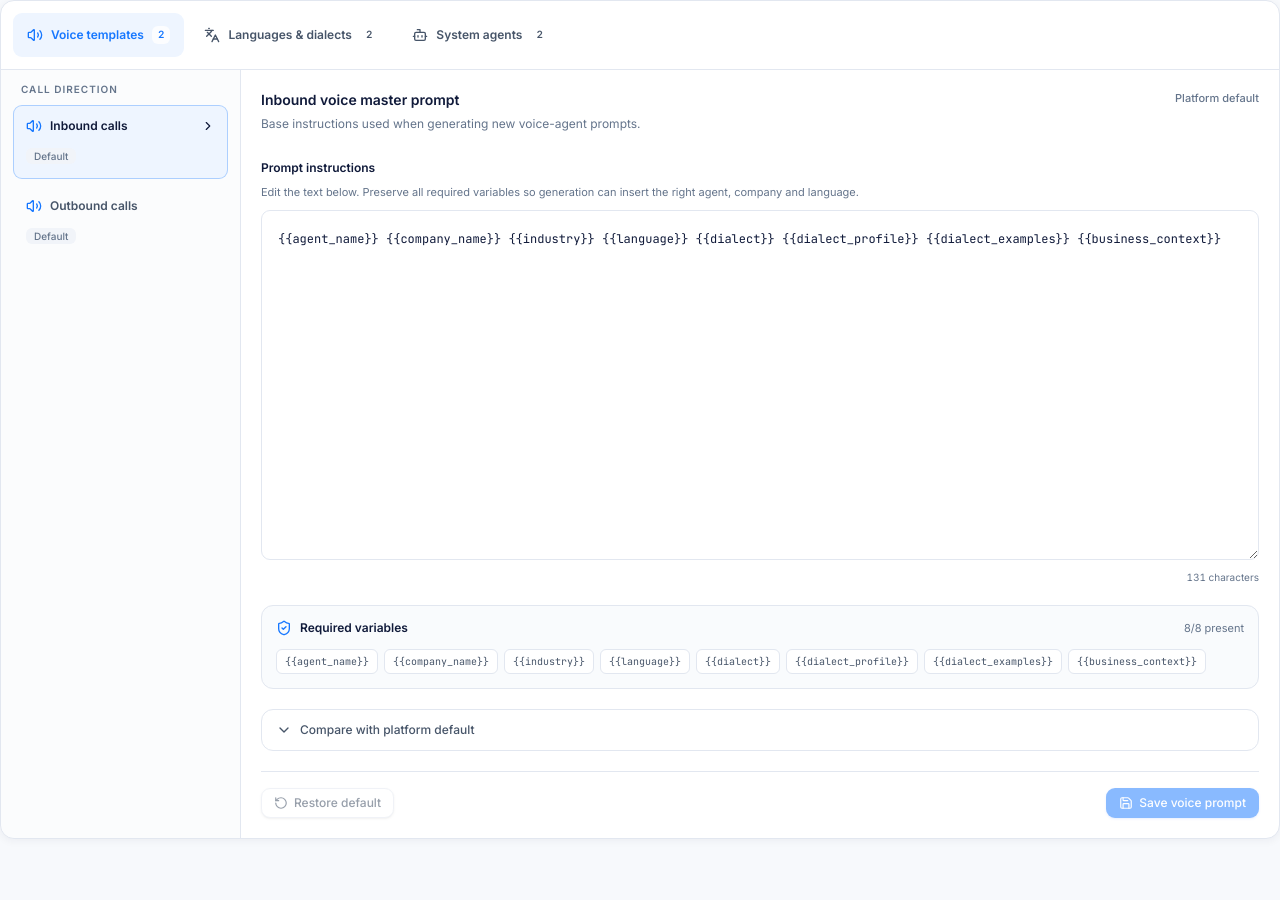
Test case: Platform Admin prompt library › uses a searchable system-agent list without affecting saved instructions
Expected: the navigation bar named "Prompt categories" is shown, [1, 1, 1279, 70]
Click the button "System agents 2". click: coordinates (481, 35)
box: [398, 13, 563, 57]
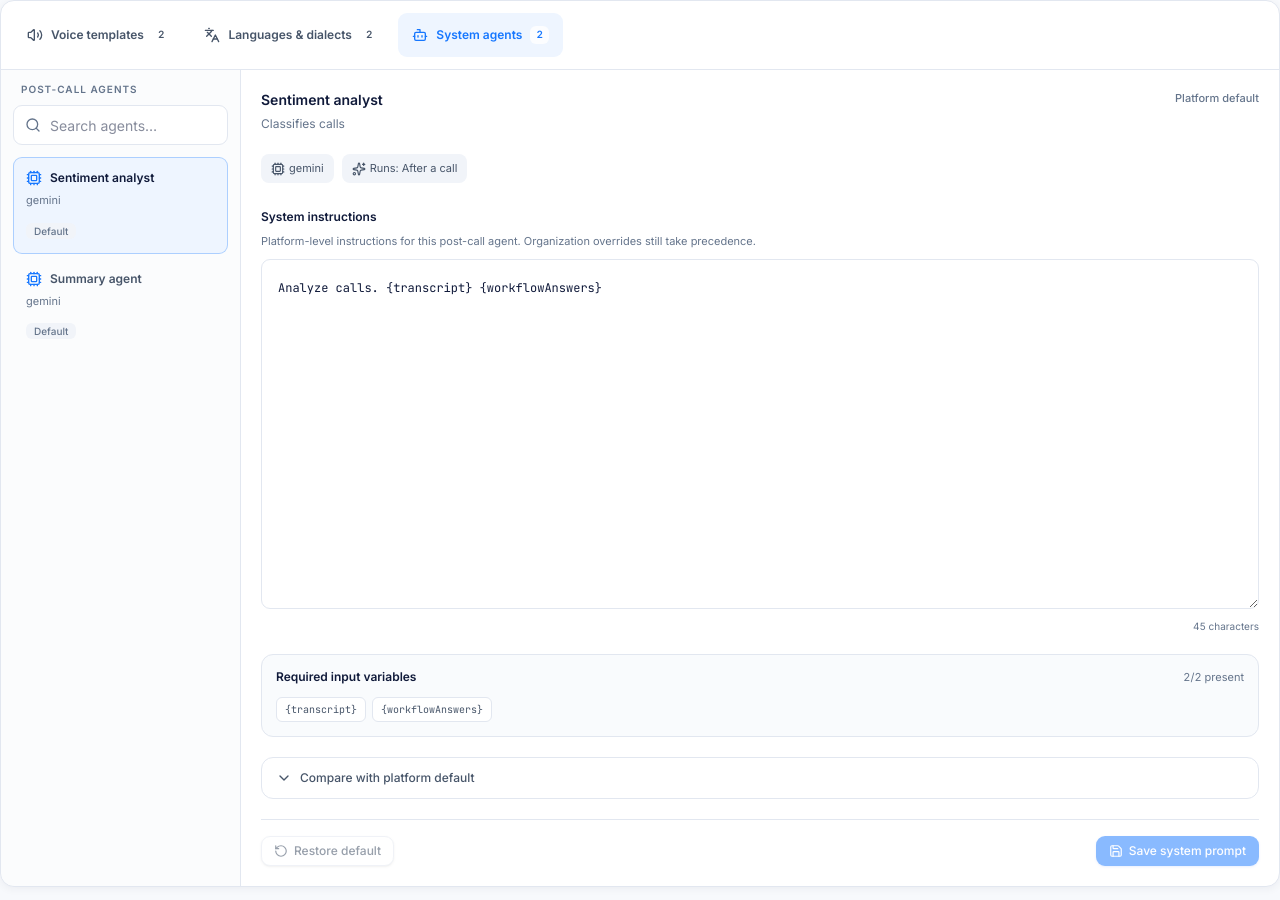
Type "summary" into the search field named "Search system agents". click: coordinates (120, 125)
box: [13, 105, 228, 145]
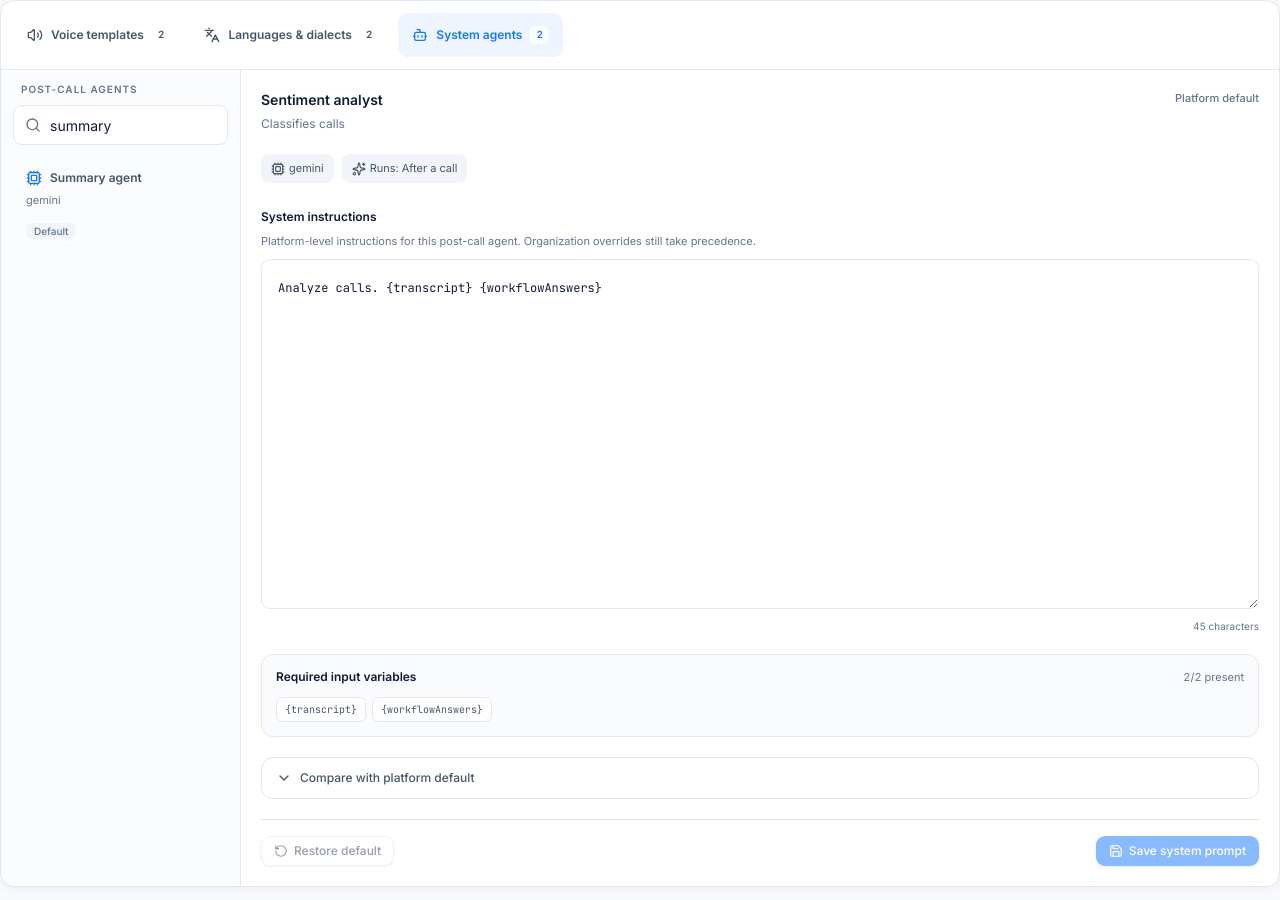
Result: the button "Summary agent gemini Default" is shown
Click the button "Summary agent gemini Default". click: coordinates (120, 205)
box: [13, 157, 228, 254]
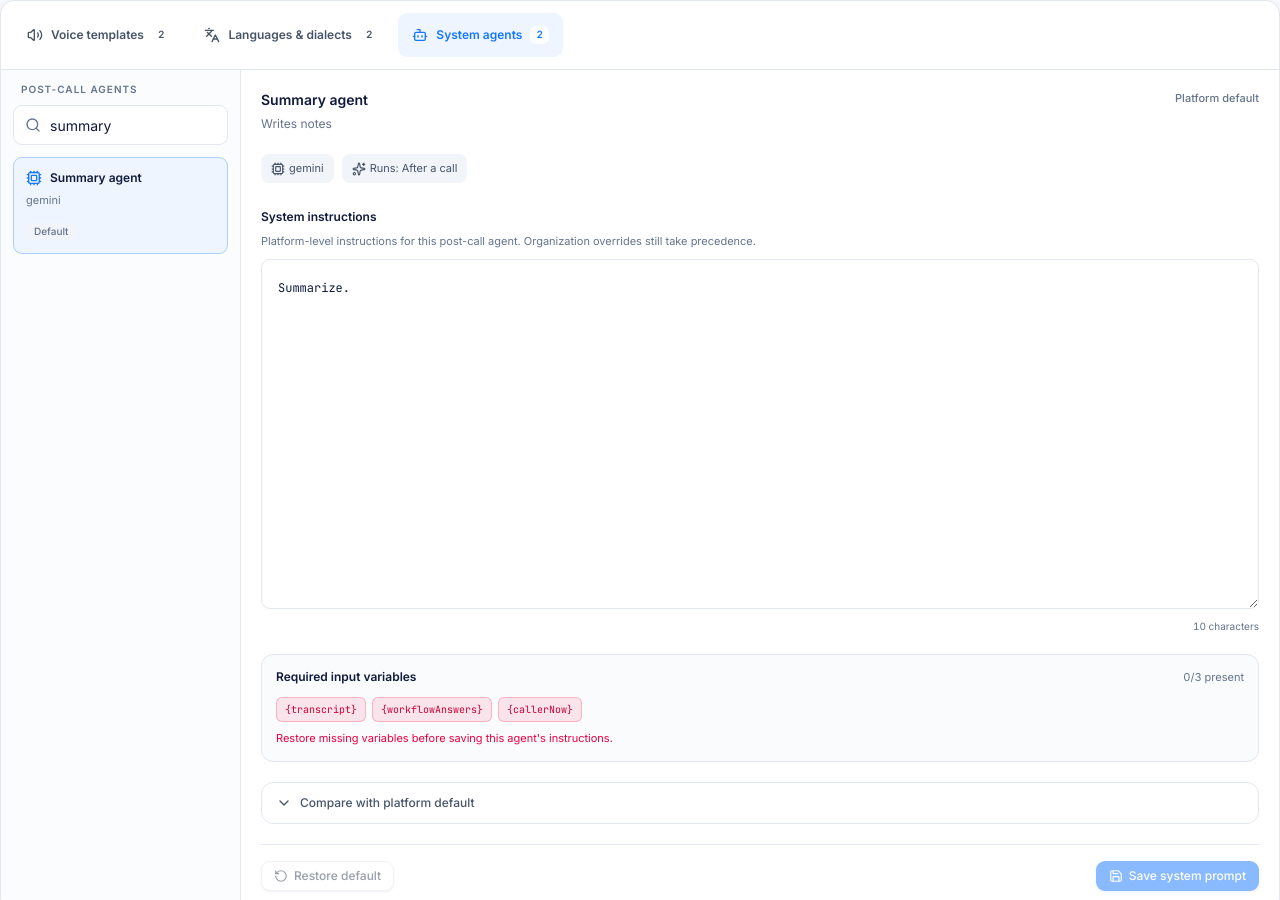
Result: the text box labelled "System instructions" holds "Summarize." at [261, 258, 1259, 608]
